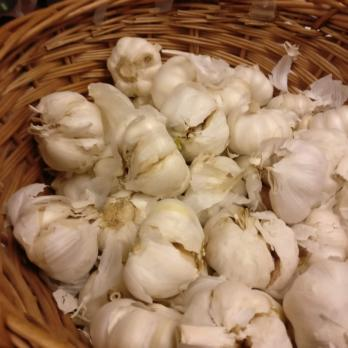Garlic: (16, 35, 348, 348)
